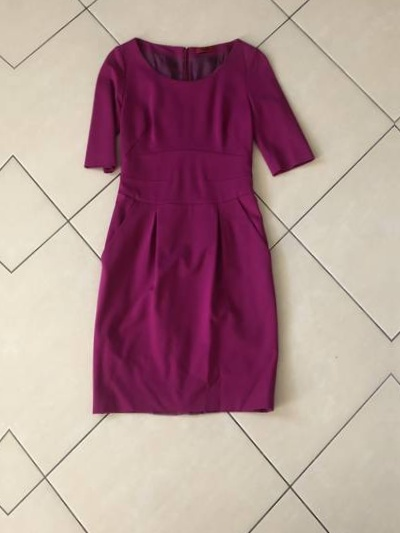Dress: (61, 11, 312, 440)
